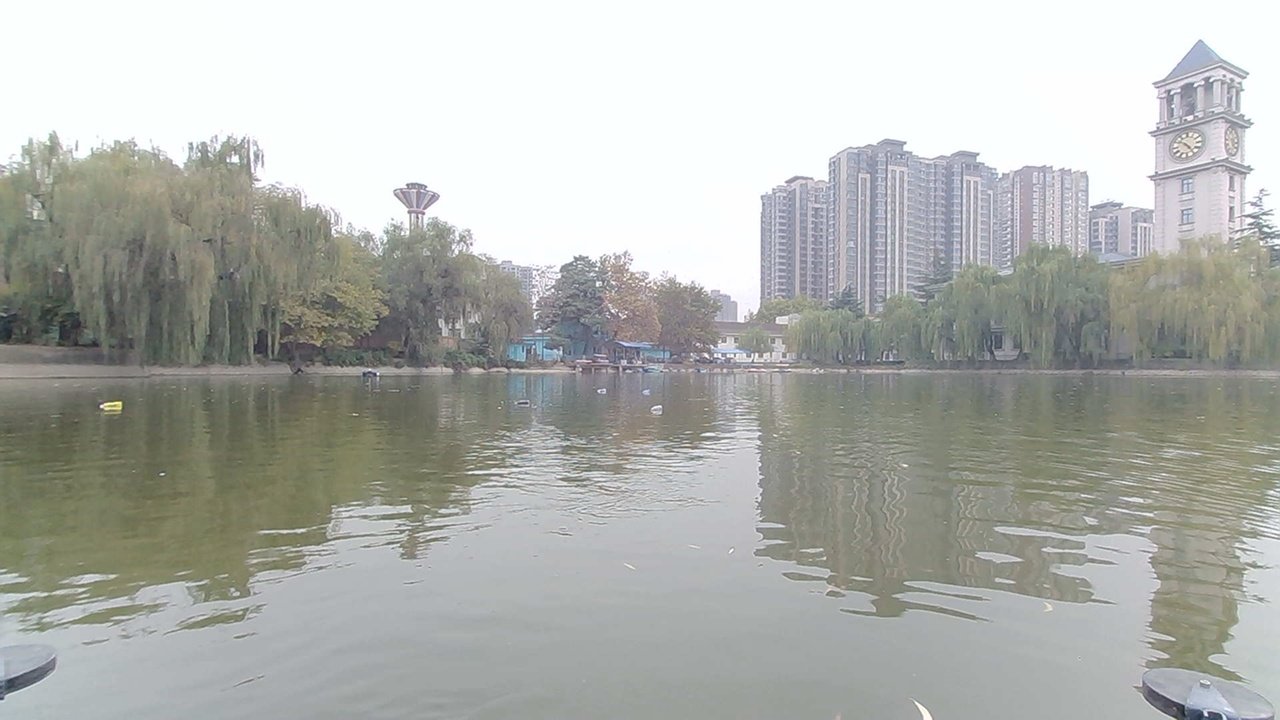bottle: (93, 397, 135, 421), (509, 390, 539, 412), (641, 396, 671, 417), (633, 380, 666, 397), (593, 382, 615, 401)
